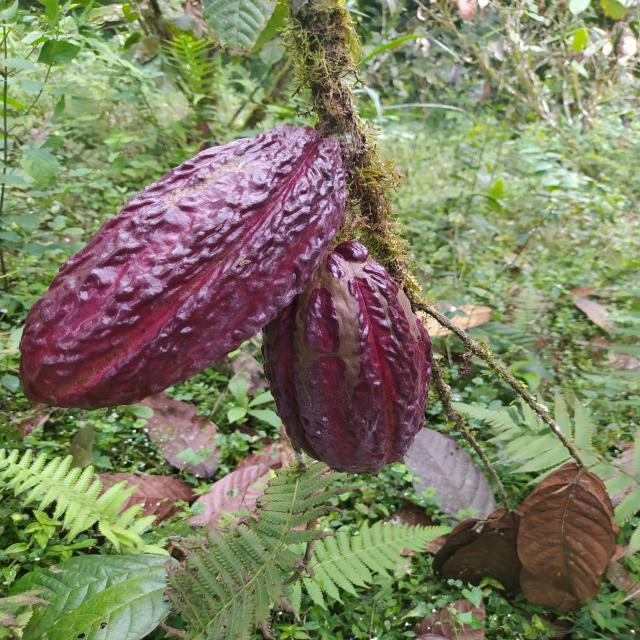Sana: (19, 123, 350, 411), (262, 241, 438, 472)
